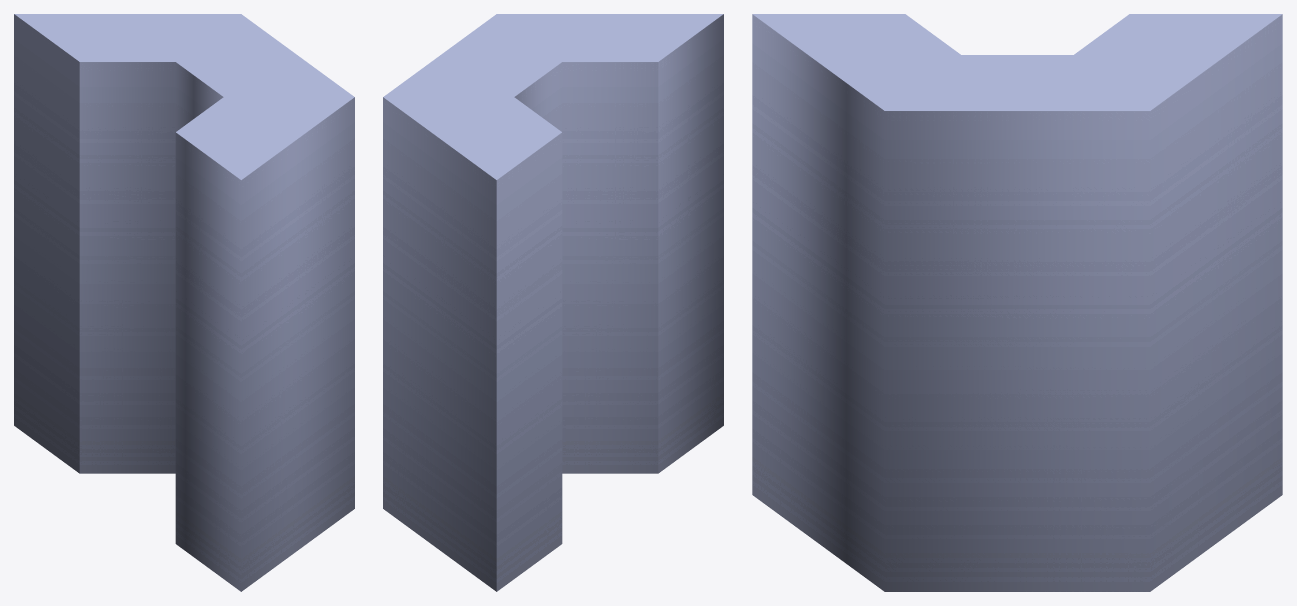
File: shape-hollow-hexagon-half.glb
3 views of the same model, side by side, from view 1: azimuth 30°, elevation 25°; view 2: azimuth 150°, elevation 25°; view 3: azimuth 270°, elevation 25° (orthographic). The views are drawn at different scales.
Parts seen in each view (by area): view 1: shape-hollow-hexagon-half; view 2: shape-hollow-hexagon-half; view 3: shape-hollow-hexagon-half.
Part boxes in pixels (box(x1,y1,x2,y2)): shape-hollow-hexagon-half: box(14, 14, 354, 591); shape-hollow-hexagon-half: box(383, 14, 723, 591); shape-hollow-hexagon-half: box(752, 14, 1282, 591).
Size of the model in its own units: 0.433 by 1 by 1.
Materials: 1 (1 with a texture image).
